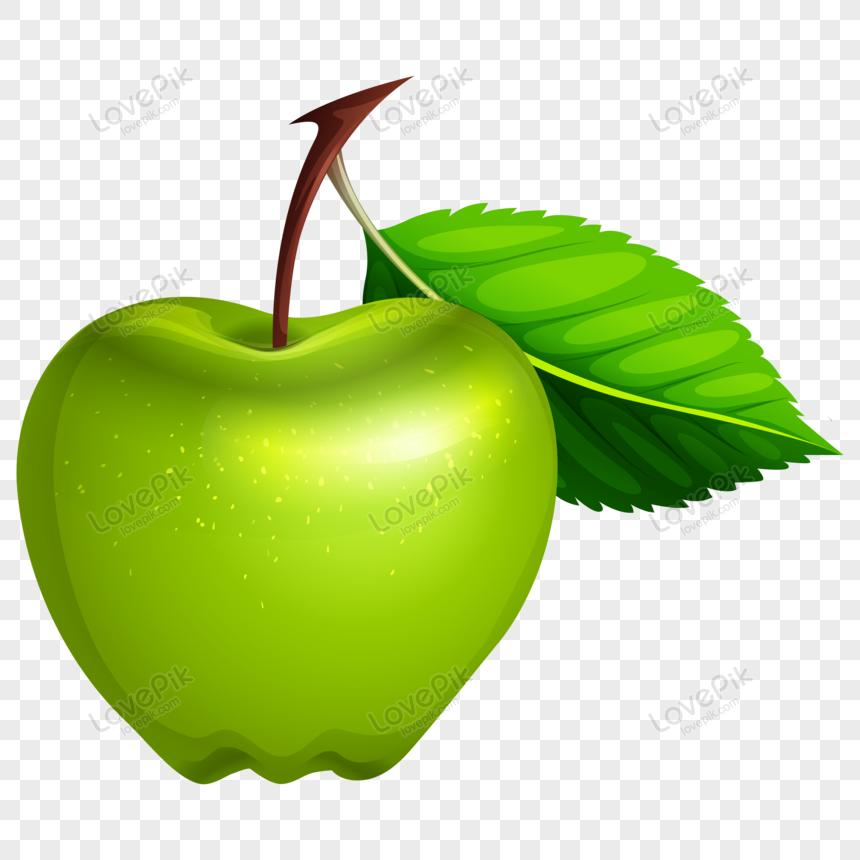apples: (14, 69, 841, 808)
